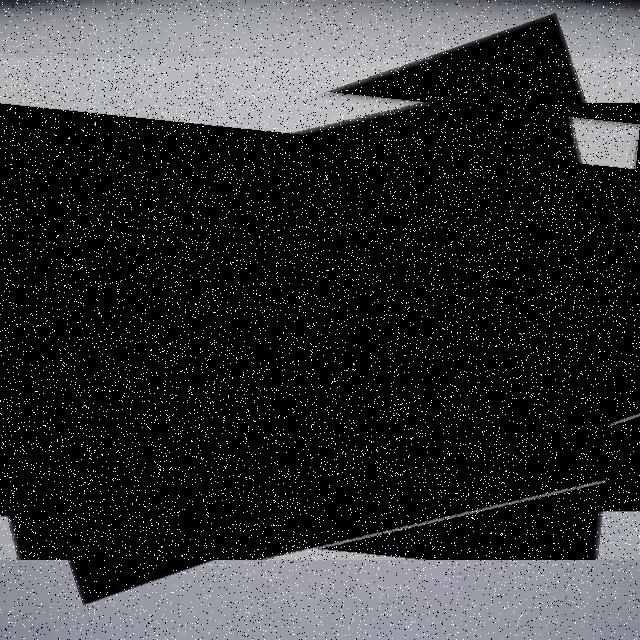dua puluh ribu rupiah: (0, 58, 640, 560)
